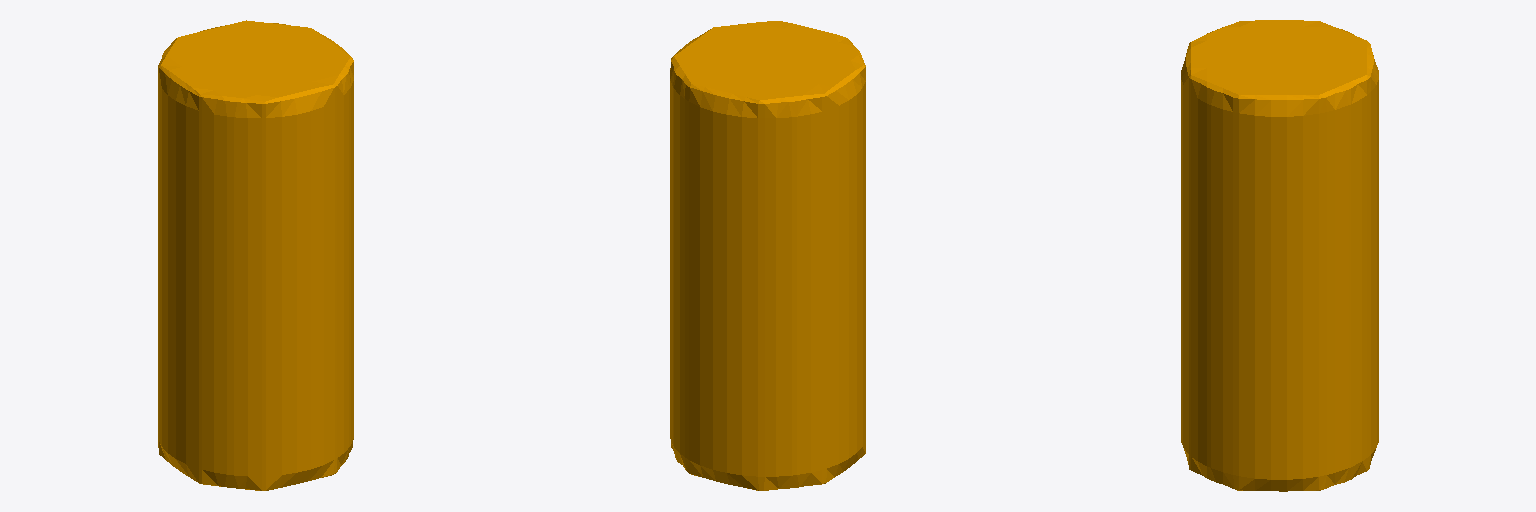
URDF robot description (cylinder_../../meshes/cylinders/cylinder_33.stl):
<?xml version="1.0" encoding="utf-8"?>  <robot name="cylinder_../../meshes/cylinders/cylinder_33.stl">   <link name="cylinder_../../meshes/cylinders/cylinder_33.stl">     <visual>       <geometry>         <mesh filename="../meshes/cylinders/cylinder_33.stl" scale="1 1 1"/>       </geometry>     </visual>     <collision>       <geometry>         <mesh filename="../meshes/cylinders/cylinder_33.stl" scale="1 1 1"/>       </geometry>     </collision>     <inertial>        <origin         xyz="0 0 0"         rpy="0 0 0" />       <mass value="0.4088882666845511"/>       <origin rpy="0 0 0" xyz="0 0 0"/>       <inertia ixx="0.0007279188649166944" ixy="4.861918837534098e-09" ixz="-3.937478823500484e-08" iyy="0.000727918741135964" iyz="-3.529175092355287e-08" izz="0.00019503382956510717"/>     </inertial>   </link>  </robot>

--- What the picture shows (computed from the rendered views, not written in the file) ---
The picture shows the robot from 3 angles, left to right: view 1: azimuth 30°, elevation 25°; view 2: azimuth 150°, elevation 25°; view 3: azimuth 270°, elevation 25°; orthographic projection.
Robot: cylinder_../../meshes/cylinders/cylinder_33.stl — 1 links, 0 joints (none); root link cylinder_../../meshes/cylinders/cylinder_33.stl; default pose: every joint at zero.
Links seen in each view (by area): view 1: cylinder_../../meshes/cylinders/cylinder_33.stl; view 2: cylinder_../../meshes/cylinders/cylinder_33.stl; view 3: cylinder_../../meshes/cylinders/cylinder_33.stl.
Link boxes in pixels (x1,y1,x2,y2): cylinder_../../meshes/cylinders/cylinder_33.stl: (158, 20, 353, 490); cylinder_../../meshes/cylinders/cylinder_33.stl: (670, 21, 865, 490); cylinder_../../meshes/cylinders/cylinder_33.stl: (1181, 20, 1378, 491).
Bounding box of the posed robot: 0.0619 × 0.0619 × 0.1365 m (x, y, z).
1 mesh visuals loaded from 1 distinct referenced files (1 binary STL).